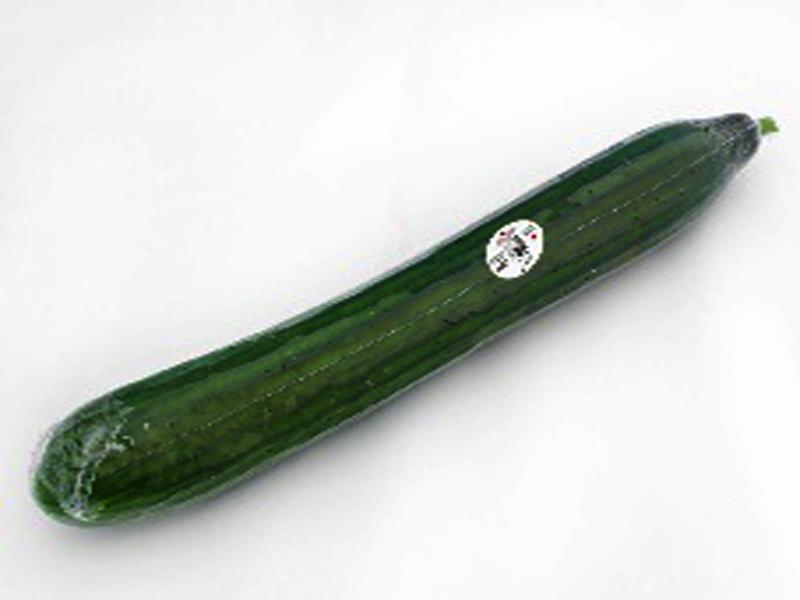Cucumber: (39, 111, 775, 521)
